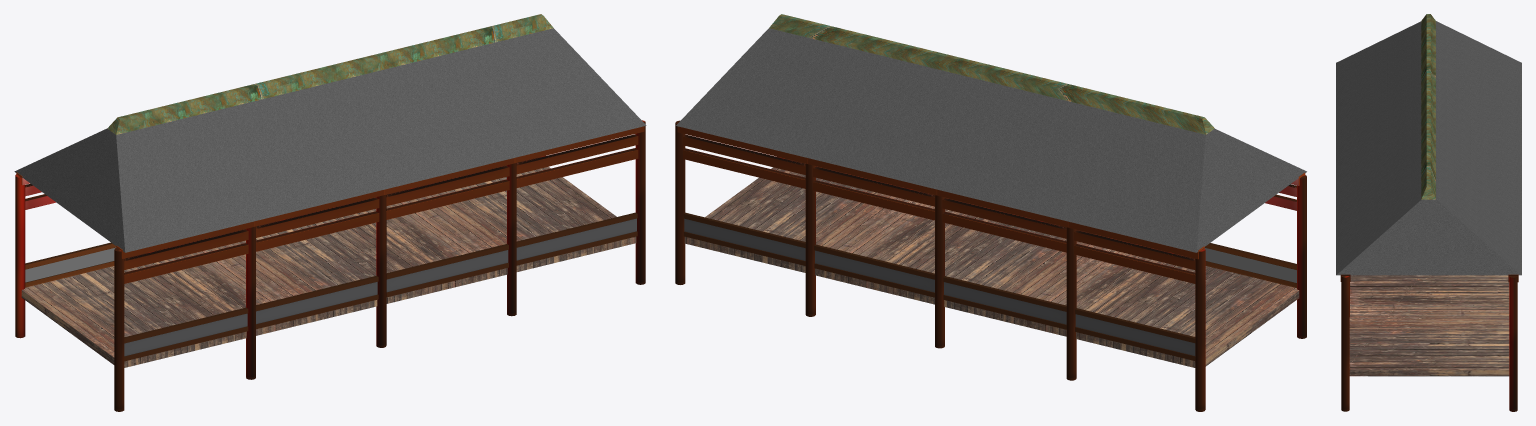
Rendered from walkway.FBX.
3 renders of one model, left to right at view 1: azimuth 30°, elevation 25°; view 2: azimuth 150°, elevation 25°; view 3: azimuth 270°, elevation 25°, orthographic. The views are drawn at different scales.
Parts seen in each view (by area): view 1: walkway roof, floor boards, walkway-roof, slat19, slat21, slat20, slat22, Box05, Box06, Box08, Box07, Box04 (+6 smaller); view 2: walkway roof, floor boards, walkway-roof, slat24, slat26, slat23, slat25, Box03, Box01, Box04, Box02, Box05 (+6 smaller); view 3: walkway roof, floor boards, walkway-roof, column36, column37.
Part boxes in pixels (x1,y1,x2,y2): walkway roof: (14,28,646,252); floor boards: (21,166,636,367); walkway-roof: (107,14,553,134); slat19: (116,221,254,283); slat21: (384,158,514,219); slat20: (254,190,384,251); slat22: (514,126,644,187); Box05: (124,307,248,361); Box06: (386,244,508,297); Box08: (256,275,378,329); Box07: (516,212,637,265); Box04: (25,242,145,287); walkway roof: (676,28,1306,252); floor boards: (684,167,1299,367); walkway-roof: (769,14,1214,134); slat24: (937,189,1068,252); slat26: (677,126,807,188); slat23: (1068,222,1204,283); slat25: (808,158,936,220); Box03: (943,276,1066,329); Box01: (683,212,805,265); Box04: (1075,308,1195,360); Box02: (814,244,934,297); Box05: (1174,243,1296,287); walkway roof: (1336,21,1521,275); floor boards: (1349,275,1509,376); walkway-roof: (1421,14,1435,199); column36: (1509,276,1517,411); column37: (1341,276,1349,411).
Size of the model in its own units: 721 by 316 by 261.
6 materials, 6 textured.
